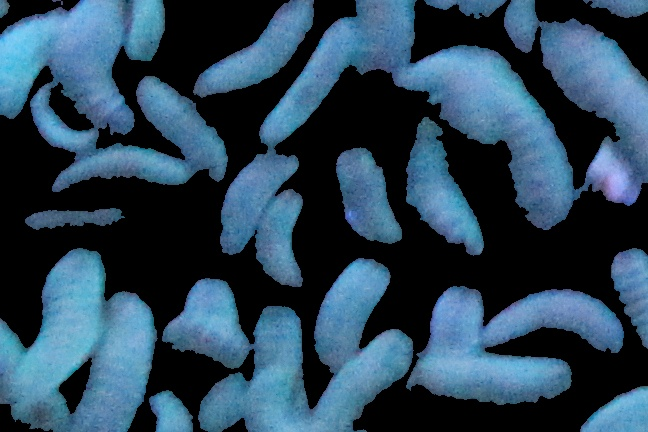larvae: (402, 47, 578, 238), (538, 17, 648, 181), (259, 15, 357, 147), (395, 123, 490, 258), (75, 292, 159, 432), (195, 1, 317, 91), (483, 282, 616, 364), (53, 1, 136, 131), (306, 332, 413, 432), (322, 138, 396, 257), (312, 258, 392, 363), (135, 77, 227, 168), (416, 355, 572, 405), (43, 255, 99, 383), (1, 8, 56, 134), (352, 1, 420, 84), (36, 152, 193, 186), (252, 308, 310, 397), (163, 310, 249, 368), (420, 285, 488, 356), (606, 246, 648, 355), (273, 184, 310, 302), (28, 94, 99, 154), (227, 162, 259, 252), (126, 1, 165, 66), (1, 297, 26, 370)
